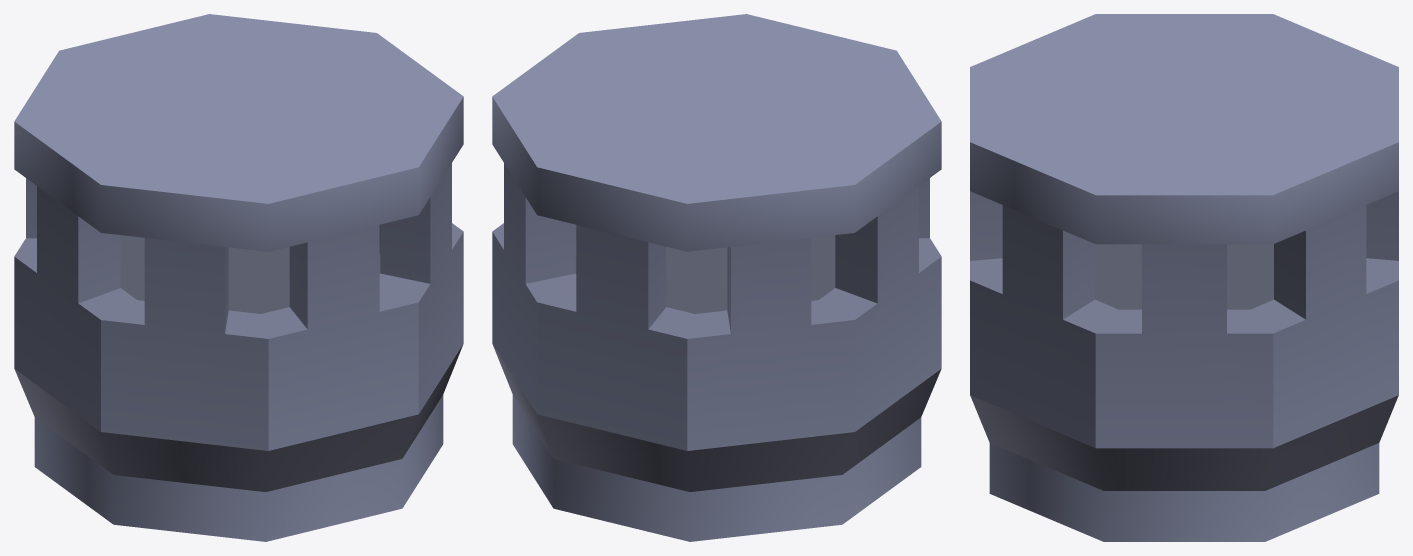
The model's file is tower.fbx.
3 views of the same model, side by side, from view 1: azimuth 30°, elevation 25°; view 2: azimuth 150°, elevation 25°; view 3: azimuth 270°, elevation 25° (orthographic). The views are drawn at different scales.
Parts seen in each view (by area): view 1: tower-watch; view 2: tower-watch; view 3: tower-watch.
Part boxes in pixels (bbox=[...]): tower-watch: bbox=[14, 14, 463, 541]; tower-watch: bbox=[492, 14, 941, 541]; tower-watch: bbox=[970, 14, 1398, 541].
Bounding box in the file's own units: 1.09 × 1 × 1.09.
